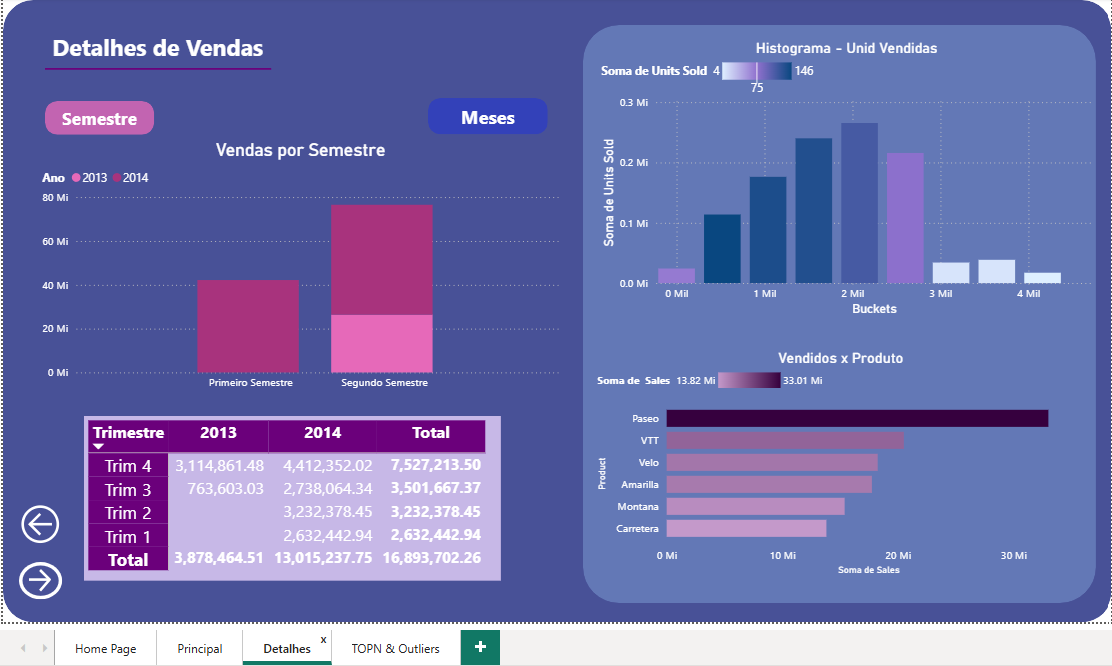

The page's visual inventory and layout, read from the dashboard file:
{"tool":"powerbi","page":{"name":"Detalhes","canvas":[1280,720],"ordinal":2},"visuals":[{"type":"group","id":"g1","title":"Layout","box":[0,2.9,1280,718],"z":0},{"type":"shape","box":[0,2.9,1280,718],"z":0,"group":"g1"},{"type":"shape","box":[48.9,43,261.1,75.9],"z":0,"group":"g2"},{"type":"actionButton","box":[17.1,647,51.3,49.8],"z":0,"group":"g3"},{"type":"textbox","box":[52.8,33,292,61],"z":1000,"group":"g2"},{"type":"clusteredBarChart","title":"Vendidos x Produto","fields":{"Y":["Sum(financials. Sales)"],"Category":["financials.Product"]},"box":[680.3,405.5,572,265.5],"z":1000},{"type":"shape","box":[18.6,651,49.8,43],"z":1000,"group":"g3"},{"type":"shape","box":[669.7,31.4,591.8,667],"z":1500,"group":"g1"},{"type":"group","id":"g2","title":"Sales report","box":[48.9,33,295.9,85.9],"z":2000},{"type":"pivotTable","fields":{"Columns":["financials.Date.Variation.Hierarquia de datas.Ano"],"Rows":["financials.Date.Variation.Hierarquia de datas.Trimestre"],"Values":["Sum(financials.Profit)"]},"box":[93.3,482.1,480.6,189.7],"z":3000},{"type":"actionButton","box":[15.6,570.8,56,71.5],"z":4000},{"type":"columnChart","title":"Histograma - Unid Vendidas","fields":{"Category":["financials.Units Sold (compartimentos)"],"Y":["Sum(financials.Units Sold)"]},"box":[685.6,47.5,576.5,324.6],"z":5000,"group":"g1"},{"type":"columnChart","title":"Vendas por Semestre","fields":{"Category":["financials.Semestre"],"Y":["Sum(financials. Sales)"],"Series":["financials.Date.Variation.Hierarquia de datas.Ano"]},"box":[40,164.3,605.7,298.6],"z":6000},{"type":"actionButton","box":[490,115.7,138.4,42],"z":7000},{"type":"actionButton","box":[48.6,118.6,126,38.9],"z":8000},{"type":"group","id":"g3","title":"Grupo 1","box":[17.1,647,51.3,49.8],"z":9000}]}

Visuals, with their boxes on the page's 1280x720 design canvas (x1, y1, x2, y2). These are canvas units, not pixel positions in the 1112x666 screenshot, which may show the page scaled, cropped or inside an application window:
"Layout" group: <region>0, 3, 1280, 721</region>
shape: <region>0, 3, 1280, 721</region>
shape: <region>49, 43, 310, 119</region>
actionButton: <region>17, 647, 68, 697</region>
textbox: <region>53, 33, 345, 94</region>
"Vendidos x Produto" clusteredBarChart: <region>680, 406, 1252, 671</region>
shape: <region>19, 651, 68, 694</region>
shape: <region>670, 31, 1262, 698</region>
"Sales report" group: <region>49, 33, 345, 119</region>
pivotTable - financials.Date.Variation.Hierarquia de datas.Ano x financials.Date.Variation.Hierarquia de datas.Trimestre: <region>93, 482, 574, 672</region>
actionButton: <region>16, 571, 72, 642</region>
"Histograma - Unid Vendidas" columnChart: <region>686, 48, 1262, 372</region>
"Vendas por Semestre" columnChart: <region>40, 164, 646, 463</region>
actionButton: <region>490, 116, 628, 158</region>
actionButton: <region>49, 119, 175, 158</region>
"Grupo 1" group: <region>17, 647, 68, 697</region>
